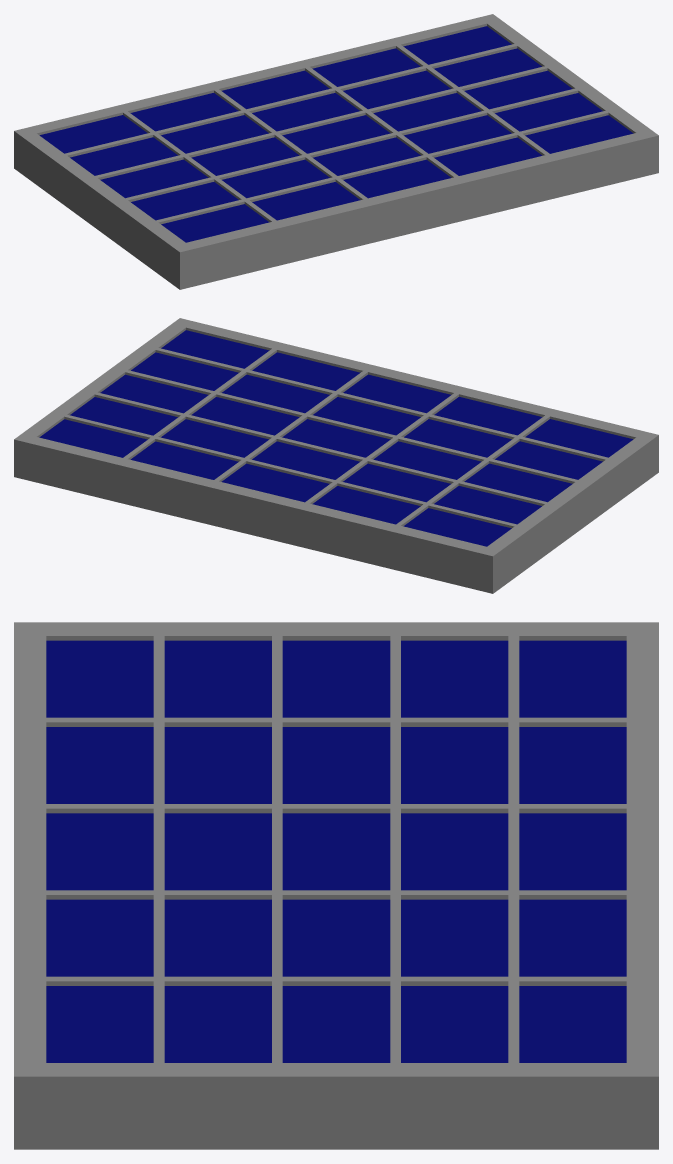
File: flat_solar_panel.glb
3 renders of one model, top to bottom at view 1: azimuth 30°, elevation 25°; view 2: azimuth 150°, elevation 25°; view 3: azimuth 270°, elevation 25°, orthographic. The views are drawn at different scales.
Visible parts, largest first — view 1: Panel, Frame; view 2: Panel, Frame; view 3: Panel, Frame.
Part boxes in pixels (x1,y1,x2,y2): Panel: [39, 26, 633, 242]; Frame: [14, 14, 658, 289]; Panel: [39, 330, 633, 546]; Frame: [14, 318, 658, 593]; Panel: [46, 640, 626, 1062]; Frame: [14, 622, 658, 1149].
Size of the model in its own units: 2 by 0.15 by 1.2.
